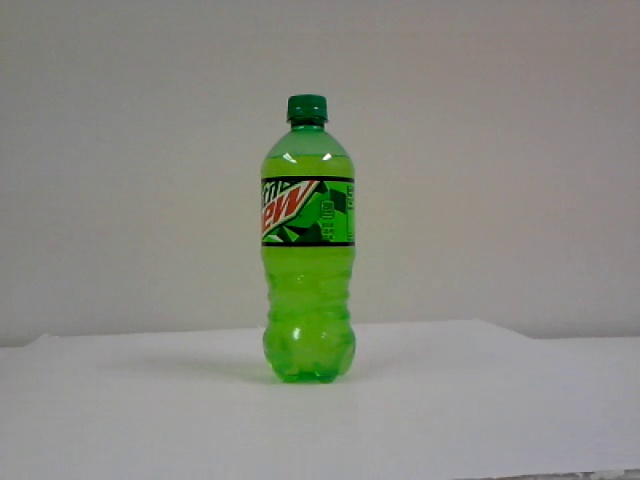botolplastik: (261, 95, 354, 384)
